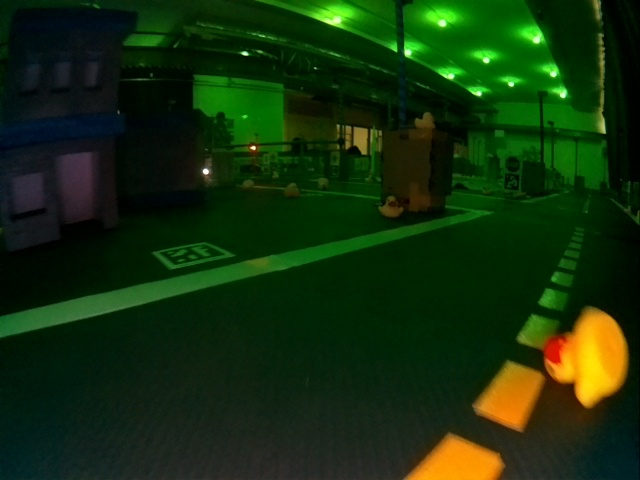Duckie: (544, 305, 629, 406), (378, 196, 403, 216), (415, 111, 436, 128), (285, 183, 299, 197), (241, 179, 255, 189), (317, 177, 328, 189)
QR code: (153, 242, 235, 269), (504, 173, 520, 192)
Stop sign: (504, 155, 522, 171)
